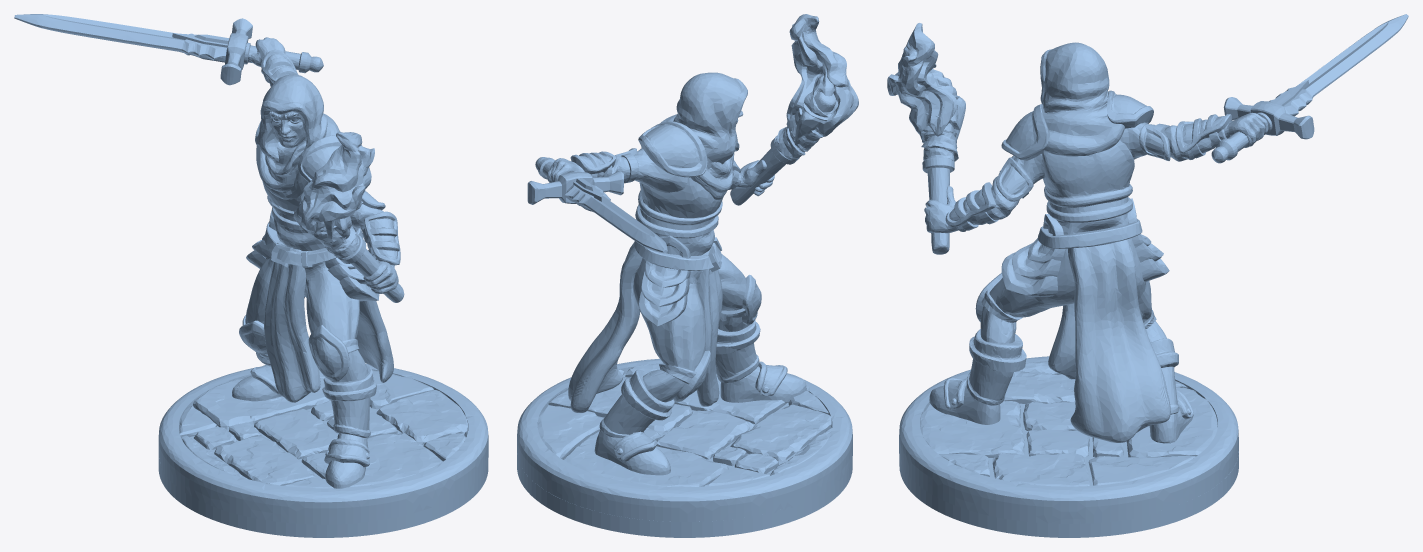
File: sirrus.glb
3 views of the same model, side by side, from view 1: azimuth 30°, elevation 25°; view 2: azimuth 150°, elevation 25°; view 3: azimuth 270°, elevation 25° (orthographic). The views are drawn at different scales.
Visible parts, largest first — view 1: sirrus; view 2: sirrus; view 3: sirrus.
Part boxes in pixels (bbox=[...]): sirrus: bbox=[14, 14, 488, 537]; sirrus: bbox=[517, 14, 858, 537]; sirrus: bbox=[887, 14, 1408, 537].
Size of the model in its own units: 30.8 by 40.99 by 46.76.
